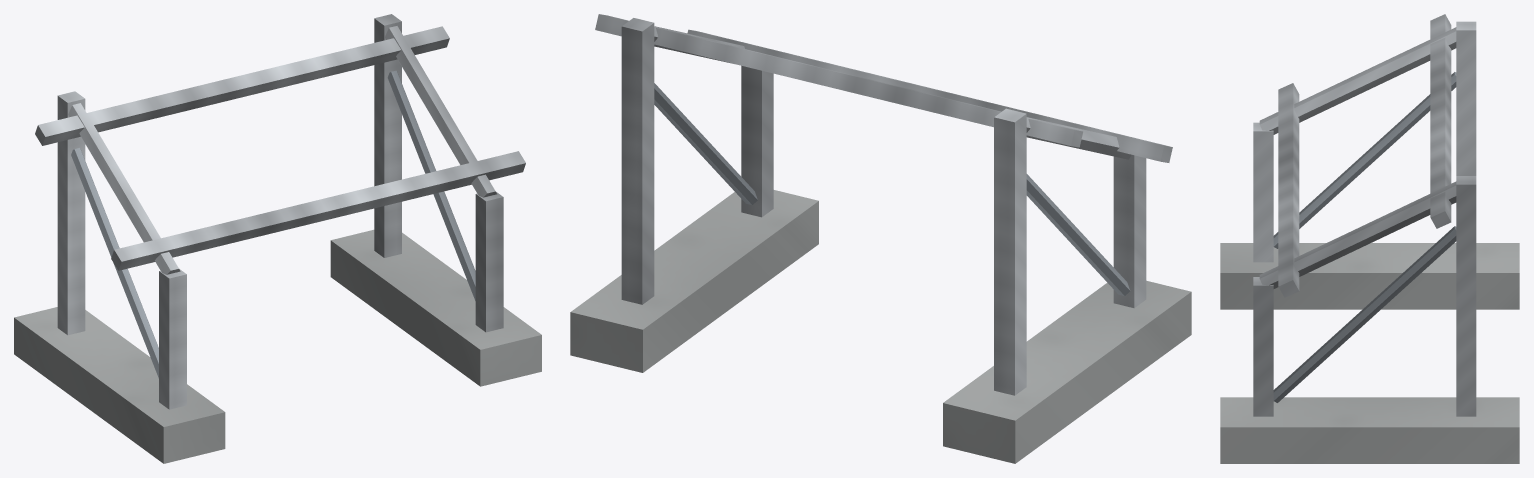
File: ENERGY-004.glb
3 renders of one model, left to right at view 1: azimuth 30°, elevation 25°; view 2: azimuth 150°, elevation 25°; view 3: azimuth 270°, elevation 25°, orthographic. The views are drawn at different scales.
Parts seen in each view (by area): view 1: ENERGY-004; view 2: ENERGY-004; view 3: ENERGY-004.
Part boxes in pixels (x1=…): ENERGY-004: x1=14, y1=14, x2=541, y2=463; ENERGY-004: x1=570, y1=14, x2=1191, y2=463; ENERGY-004: x1=1220, y1=14, x2=1519, y2=463.
Bounding box in the file's own units: 1.84 × 1.17 × 1.18.
3 materials, 3 textured.
